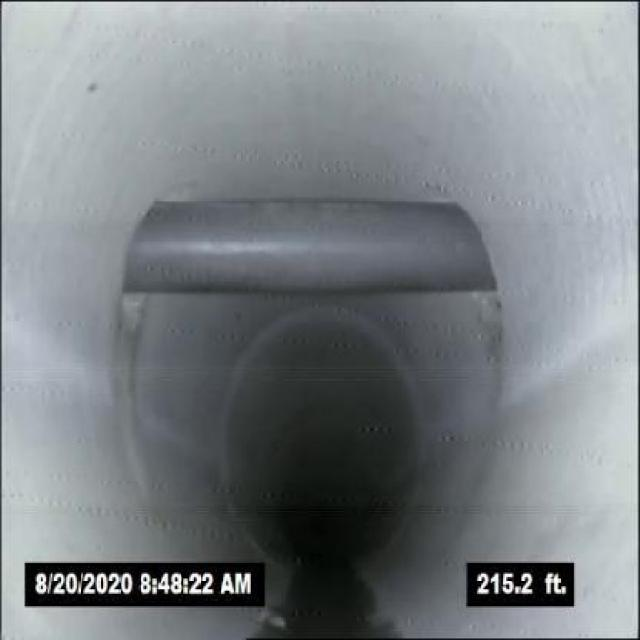Utility intrusion: (105, 194, 508, 303)
